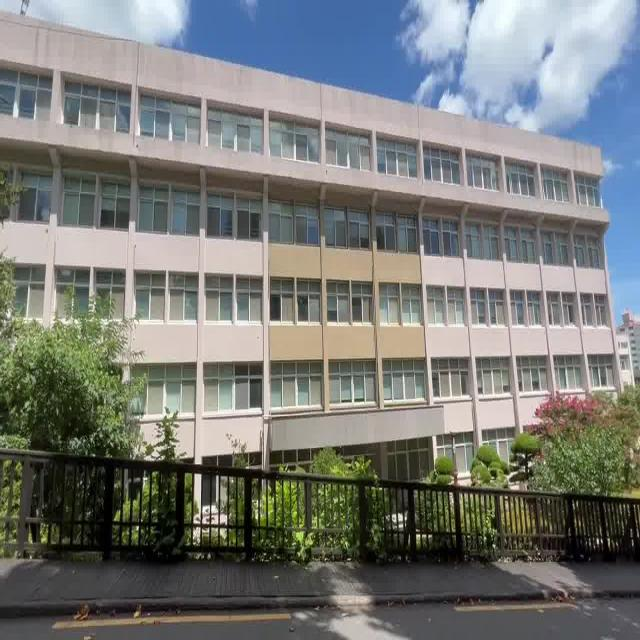building: (22, 45, 607, 426)
